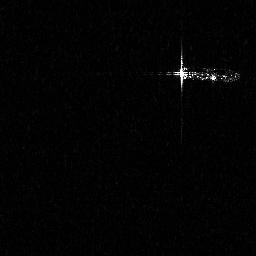ship: (149, 43, 242, 95)
